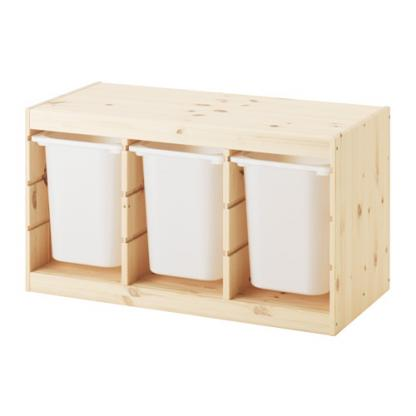Cabinet: (20, 76, 395, 342)
